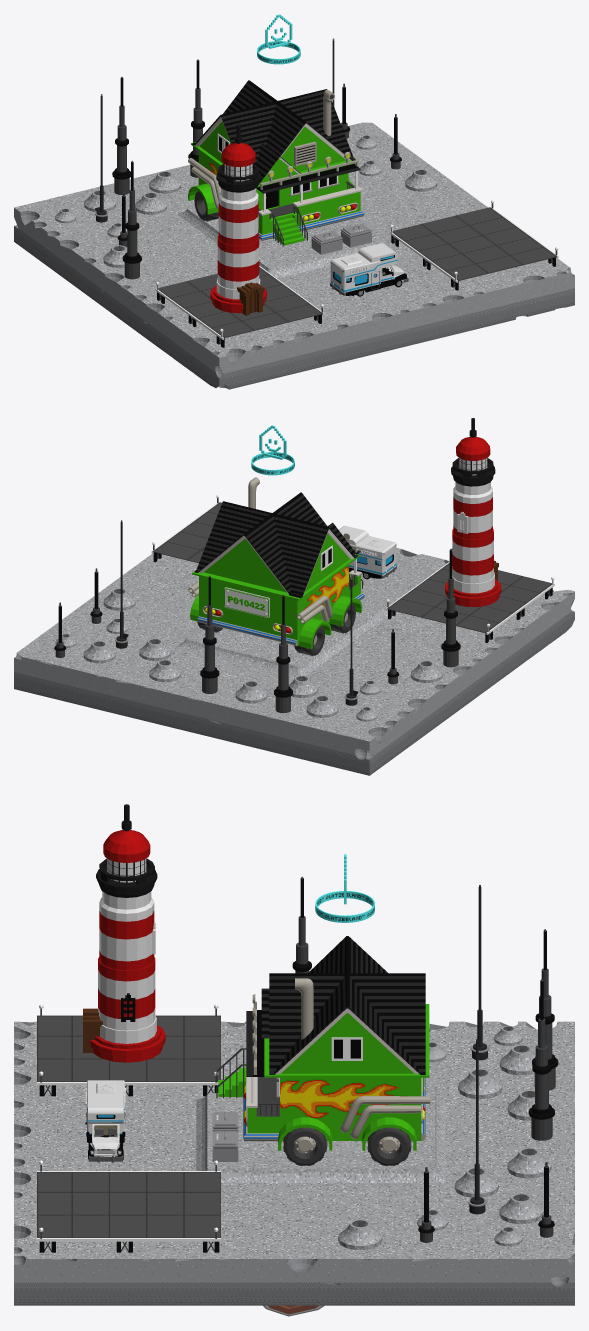
3 views of the same model, one above another, from view 1: azimuth 30°, elevation 25°; view 2: azimuth 150°, elevation 25°; view 3: azimuth 270°, elevation 25° (orthographic). The views are drawn at different scales.
Parts seen in each view (by area): view 1: Cube.027, Cube.1474, Cube.026, OBJRANDOM_LIGHTHOUSE, Cube.025, Cube.028, VEHICLES_CAMPER, Cylinder.020, Cylinder.021, TYPE_PREMIUM, Cylinder.017, Cube.029 (+5 smaller); view 2: Cube.027, Cube.1474, OBJRANDOM_LIGHTHOUSE, Cube.025, Cube.028, Cube.026, VEHICLES_CAMPER, Cylinder.021, Cylinder.017, Cylinder.020, TYPE_PREMIUM, Cylinder.018 (+9 smaller); view 3: Cube.027, Cube.1474, OBJRANDOM_LIGHTHOUSE, Cube.026, Cube.028, Cube.025, VEHICLES_CAMPER, Cylinder.017, Cylinder.020, TYPE_PREMIUM, Cylinder.033, Cylinder.031 (+8 smaller).
Boxes of the visible parts, x1,y1,x2,y2 form: Cube.027: [14, 122, 574, 389]; Cube.1474: [188, 80, 364, 246]; Cube.026: [389, 200, 558, 290]; OBJRANDOM_LIGHTHOUSE: [210, 124, 266, 315]; Cube.025: [155, 258, 324, 347]; Cube.028: [178, 206, 393, 278]; VEHICLES_CAMPER: [330, 243, 408, 296]; Cylinder.020: [112, 77, 130, 194]; Cylinder.021: [122, 160, 141, 279]; TYPE_PREMIUM: [257, 14, 300, 64]; Cylinder.017: [188, 59, 204, 177]; Cube.029: [311, 231, 342, 254]; Cube.027: [14, 548, 574, 775]; Cube.1474: [188, 477, 364, 655]; OBJRANDOM_LIGHTHOUSE: [445, 418, 501, 606]; Cube.025: [385, 562, 554, 642]; Cube.028: [176, 601, 387, 677]; Cube.026: [151, 495, 221, 563]; VEHICLES_CAMPER: [338, 525, 396, 579]; Cylinder.021: [441, 549, 460, 667]; Cylinder.017: [200, 575, 219, 693]; Cylinder.020: [274, 594, 292, 713]; TYPE_PREMIUM: [251, 425, 294, 475]; Cylinder.018: [344, 577, 358, 705]; Cube.027: [14, 1021, 574, 1305]; Cube.1474: [216, 936, 430, 1166]; OBJRANDOM_LIGHTHOUSE: [83, 804, 165, 1062]; Cube.026: [37, 1160, 220, 1252]; Cube.028: [196, 1093, 445, 1182]; Cube.025: [37, 1004, 220, 1096]; VEHICLES_CAMPER: [85, 1080, 125, 1162]; Cylinder.017: [528, 979, 554, 1140]; Cylinder.020: [532, 929, 558, 1090]; TYPE_PREMIUM: [315, 854, 374, 922]; Cylinder.033: [338, 1219, 382, 1249]; Cylinder.031: [499, 1193, 543, 1223].
Size of the model in its own units: 4000 by 3420 by 4000.
44 materials, 6 textured.
